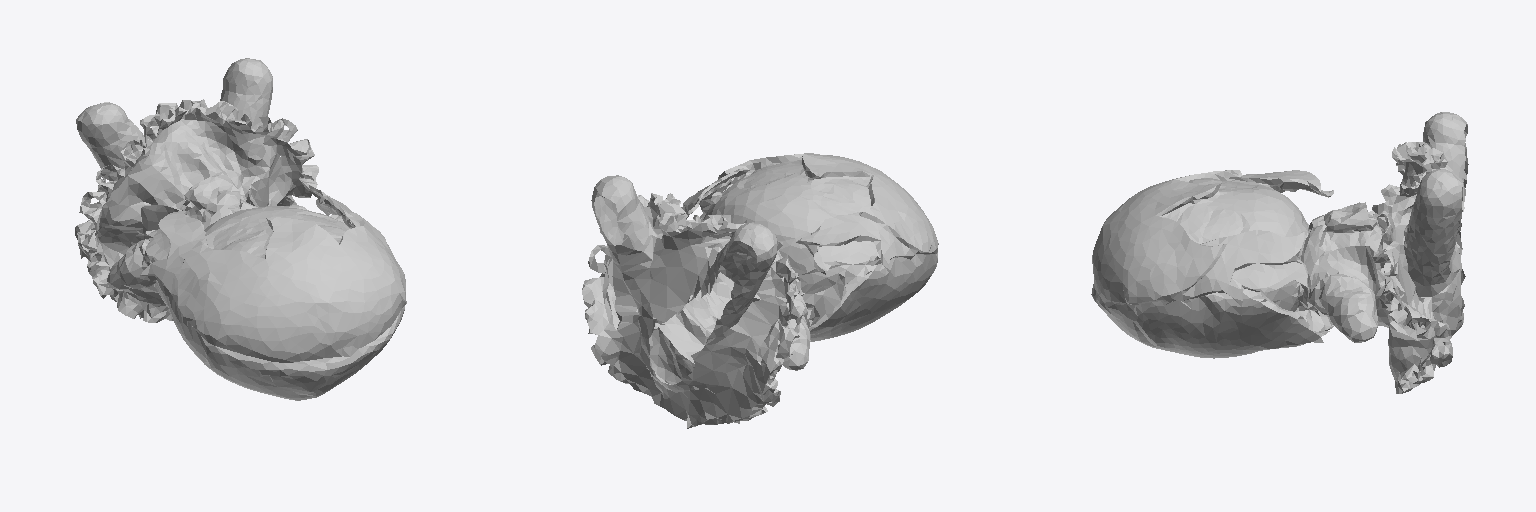
Rendered from yuuka.obj.
3 views of the same model, side by side, from view 1: azimuth 30°, elevation 25°; view 2: azimuth 150°, elevation 25°; view 3: azimuth 270°, elevation 25° (orthographic).
Visible parts, largest first — view 1: yuuka_low; view 2: yuuka_low; view 3: yuuka_low.
Part boxes in pixels (bbox=[...]): yuuka_low: bbox=[75, 58, 406, 400]; yuuka_low: bbox=[582, 153, 938, 428]; yuuka_low: bbox=[1091, 112, 1468, 393].
Size of the model in its own units: 21.81 by 20.9 by 29.84.